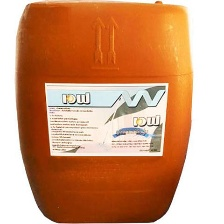cleaning_solution: (13, 0, 196, 223)
